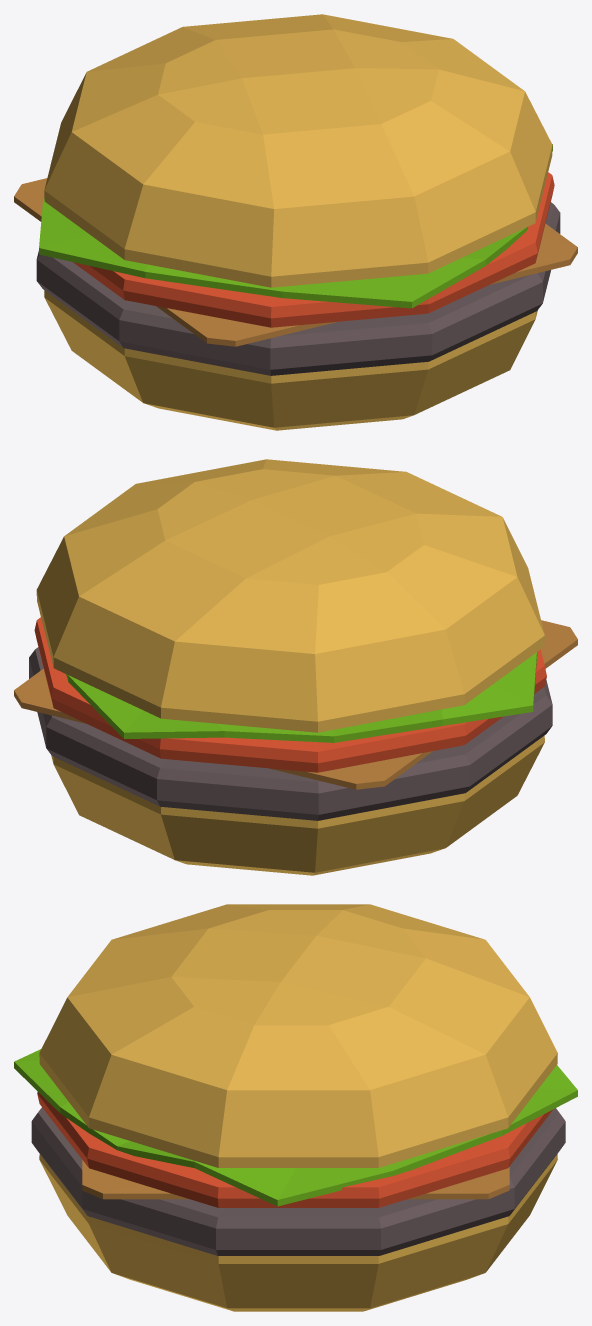
Rendered from Burger.fbx.
3 views of the same model, one above another, from view 1: azimuth 30°, elevation 25°; view 2: azimuth 150°, elevation 25°; view 3: azimuth 270°, elevation 25° (orthographic).
Visible parts, largest first — view 1: UpperBun, LowerBun, Patty, Tomato, Lettuce, Cheese; view 2: UpperBun, LowerBun, Patty, Tomato, Lettuce, Cheese; view 3: UpperBun, LowerBun, Patty, Tomato, Lettuce, Cheese.
Part boxes in pixels (x1,y1,x2,y2): UpperBun: (44, 14, 552, 287); LowerBun: (44, 290, 537, 430); Patty: (36, 202, 560, 375); Tomato: (73, 172, 554, 327); Lettuce: (39, 144, 552, 308); Cheese: (14, 178, 577, 346); UpperBun: (36, 459, 544, 732); LowerBun: (51, 735, 544, 875); Patty: (29, 647, 552, 820); Tomato: (34, 617, 546, 772); Lettuce: (66, 652, 537, 742); Cheese: (14, 620, 577, 789); UpperBun: (39, 904, 557, 1167); LowerBun: (39, 1154, 557, 1311); Patty: (31, 1107, 565, 1255); Tomato: (37, 1092, 552, 1207); Lettuce: (14, 1049, 577, 1206); Cheese: (82, 1160, 509, 1199).
Bounding box in the file's own units: 214 × 111 × 211.
